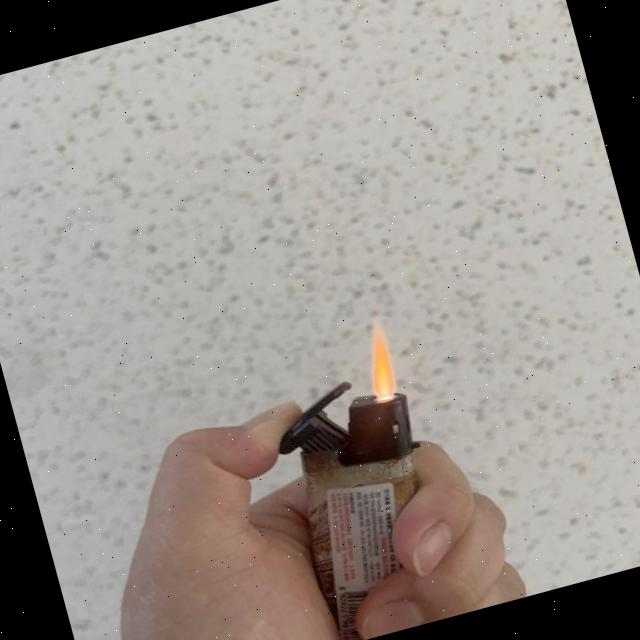fire: (352, 320, 400, 396)
